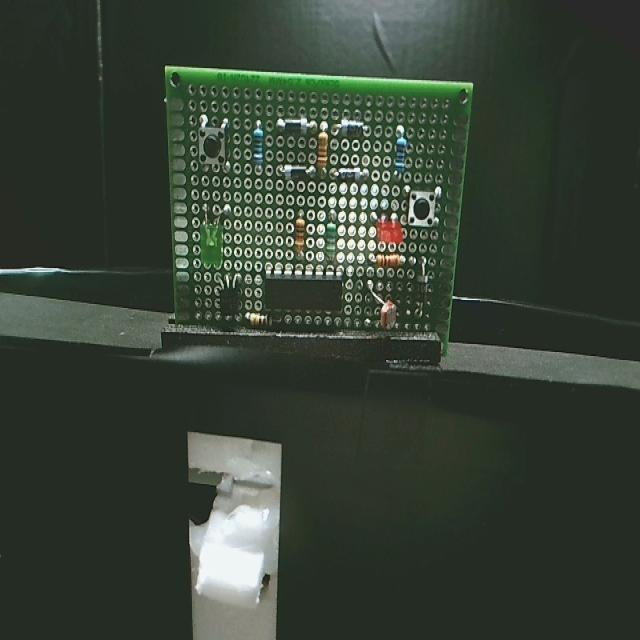IC: (260, 264, 345, 315)
cds: (364, 278, 399, 335)
diode: (331, 117, 375, 144), (414, 256, 431, 323), (274, 115, 318, 140), (275, 162, 317, 185), (329, 166, 371, 188)
led: (195, 202, 232, 268), (369, 210, 406, 247)
resistor: (243, 306, 285, 331), (392, 123, 408, 186), (322, 205, 338, 268), (251, 119, 267, 180), (367, 252, 411, 272), (318, 122, 330, 183), (294, 207, 307, 263)
switch: (196, 111, 233, 177), (401, 183, 444, 230)
transistor: (212, 272, 245, 320)
